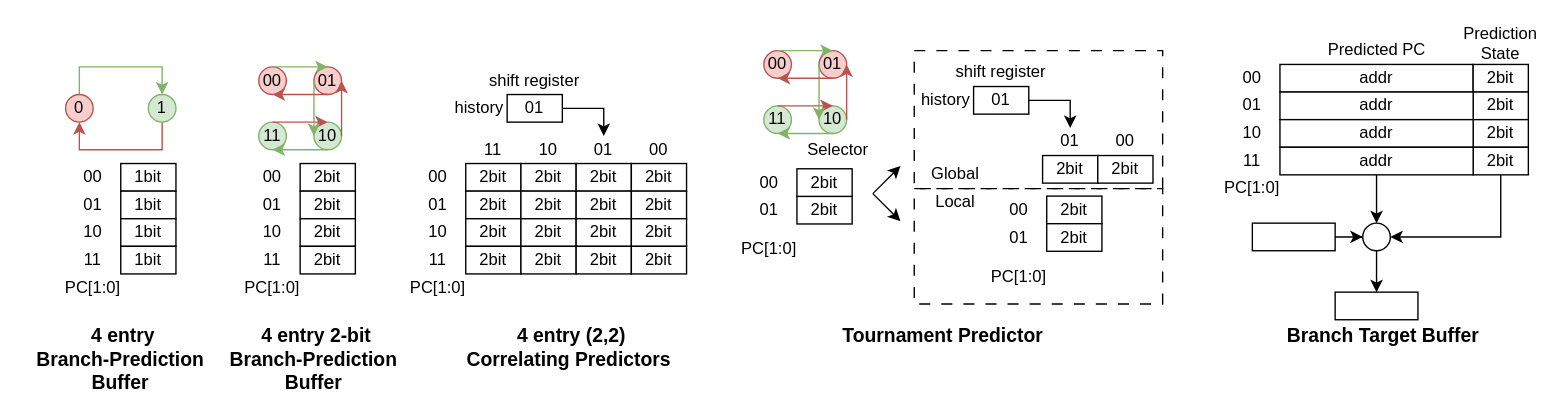
This 1565x418 diagram has some shape labels left out. The shapes that lost their labels are listed below. From the top down, each one's centre as x and y in pixels, then its label:
At point 1293,236: "PC+4".
At point 1376,305: "Next PC".
